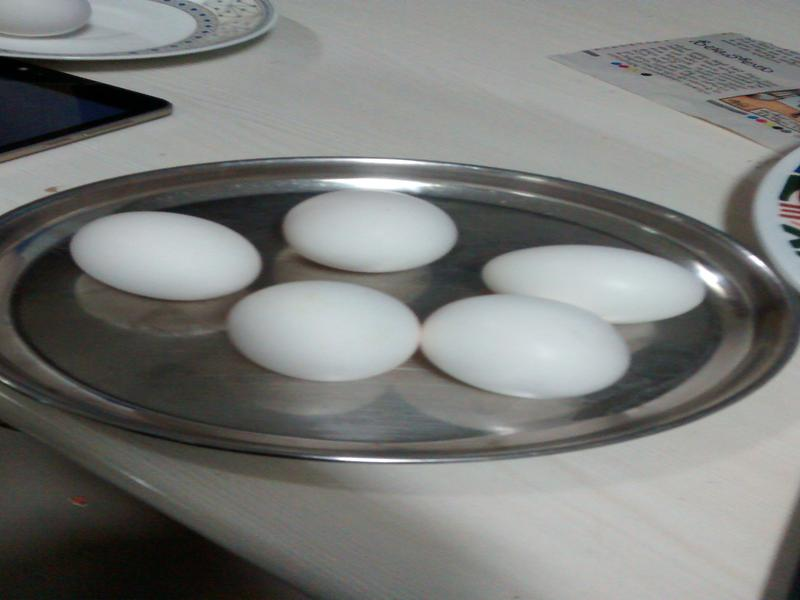egg: (285, 187, 458, 279)
